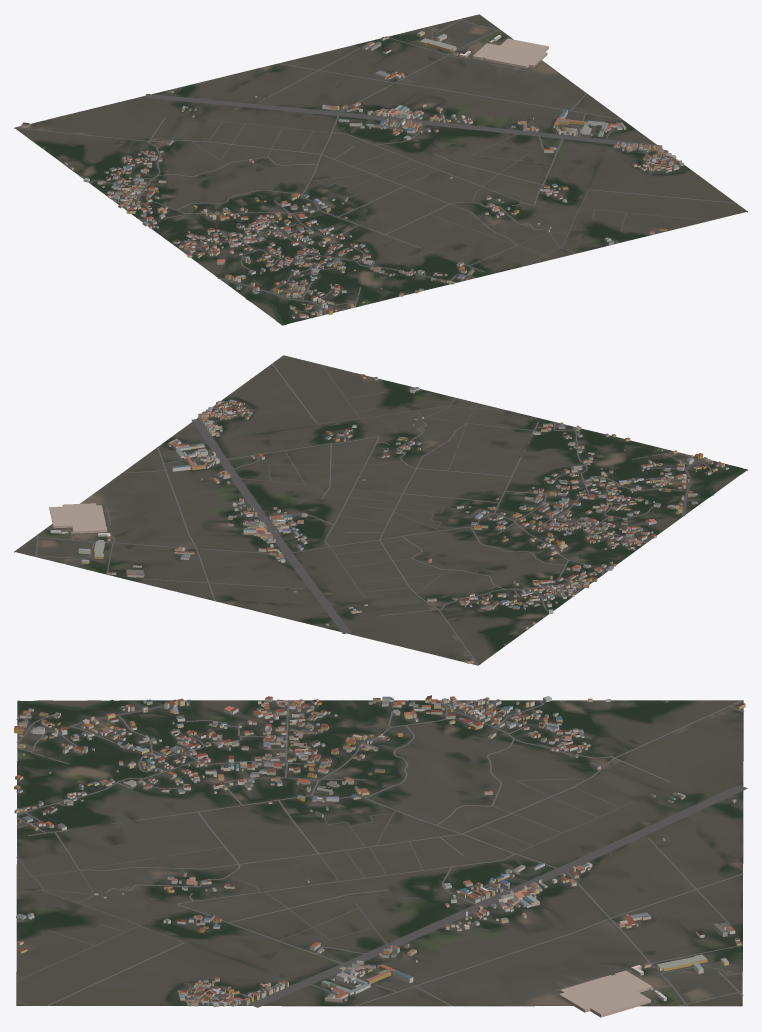
3 renders of one model, top to bottom at view 1: azimuth 30°, elevation 25°; view 2: azimuth 150°, elevation 25°; view 3: azimuth 270°, elevation 25°, orthographic. The views are drawn at different scales.
Parts seen in each view (by area): view 1: ground, buildings, roads; view 2: ground, buildings, roads; view 3: ground, buildings, roads.
Boxes of the visible parts, <box> form: ground: <box>14,14,747,325</box>; buildings: <box>21,31,683,318</box>; roads: <box>14,18,743,318</box>; ground: <box>14,355,747,665</box>; buildings: <box>49,374,728,663</box>; roads: <box>30,357,712,665</box>; ground: <box>16,700,743,1006</box>; buildings: <box>14,695,745,1017</box>; roads: <box>16,699,747,1007</box>.
Bounding box in the file's own units: 1459 × 17.94 × 1417.
